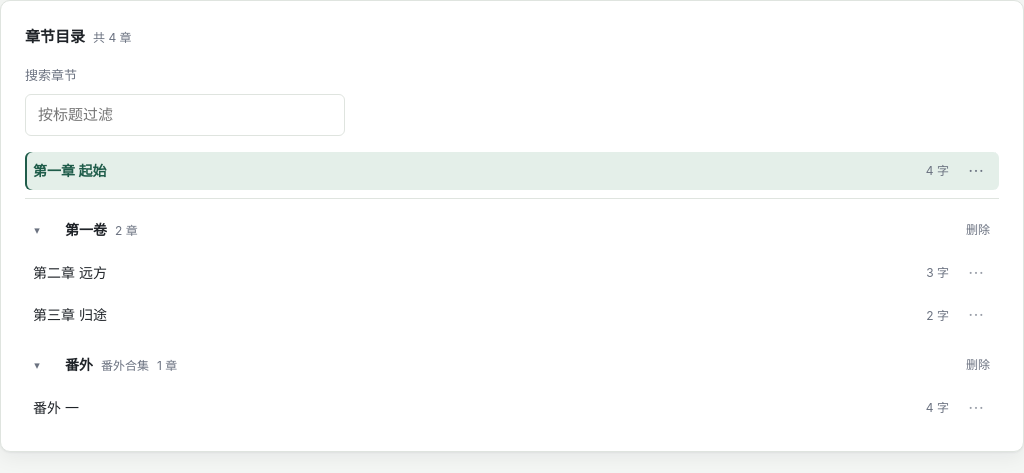
it: ChapterTree › cancels rename with Escape
Step 1. Double-click the button with class "chapter-title" showing "第一章 起始" → (70, 170), box [33,156,914,186]
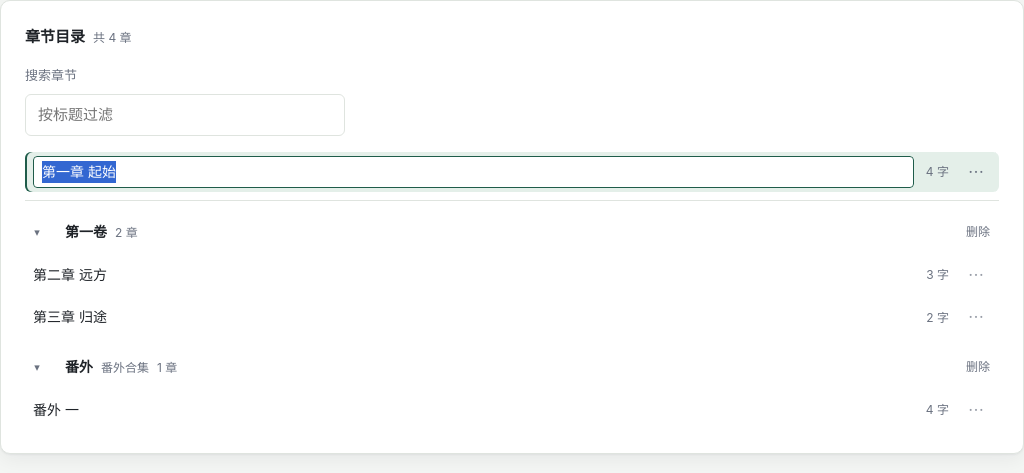
Step 2. Replace the text in the field with test id "rename-input" with "不要保存" → (473, 172), box [33,156,914,188]
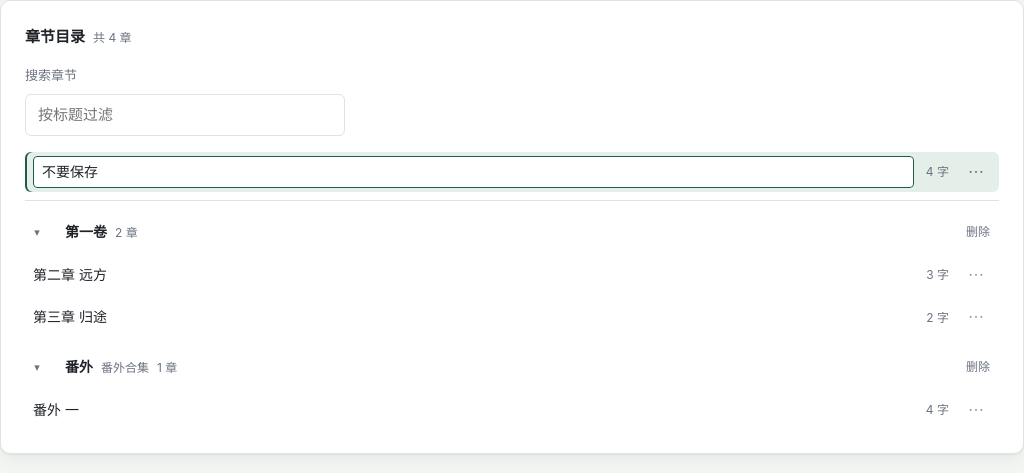
Step 3. Press Esc in the field with test id "rename-input", box [33,156,914,188]
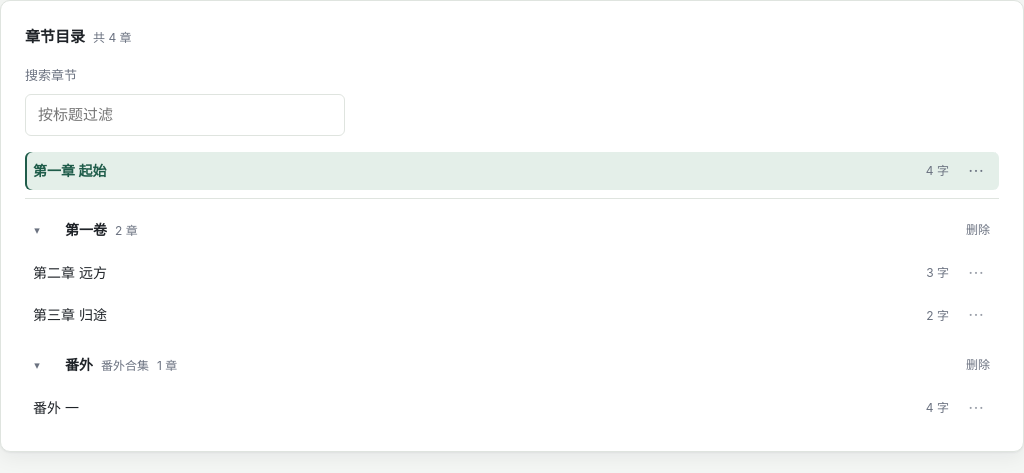
Expected: the button with class "chapter-title" reads "第一章 起始", [33,156,914,186]
